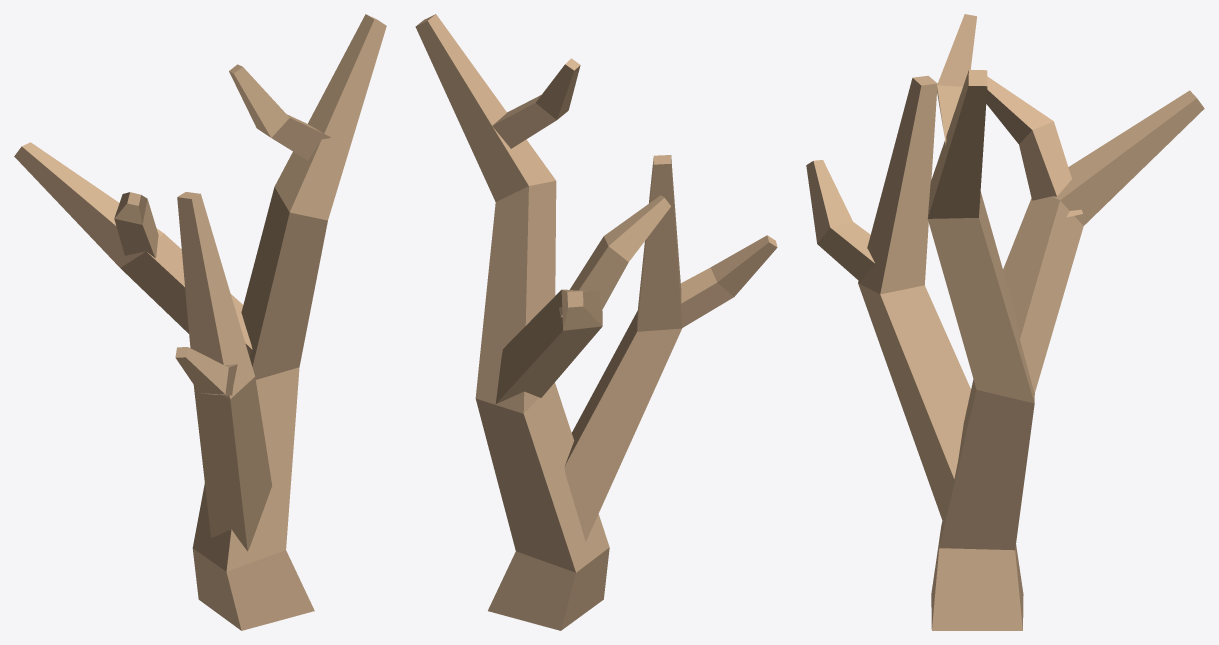
The model's file is Tree-S.fbx.
3 views of the same model, side by side, from view 1: azimuth 30°, elevation 25°; view 2: azimuth 150°, elevation 25°; view 3: azimuth 270°, elevation 25° (orthographic). The views are drawn at different scales.
Parts seen in each view (by area): view 1: Tree-S; view 2: Tree-S; view 3: Tree-S.
Boxes of the visible parts, left/top/right/bottom form: Tree-S: left=14, top=14, right=386, bottom=630; Tree-S: left=415, top=14, right=777, bottom=630; Tree-S: left=806, top=14, right=1204, bottom=630.
Size of the model in its own units: 0.9064 by 1.72 by 1.03.
